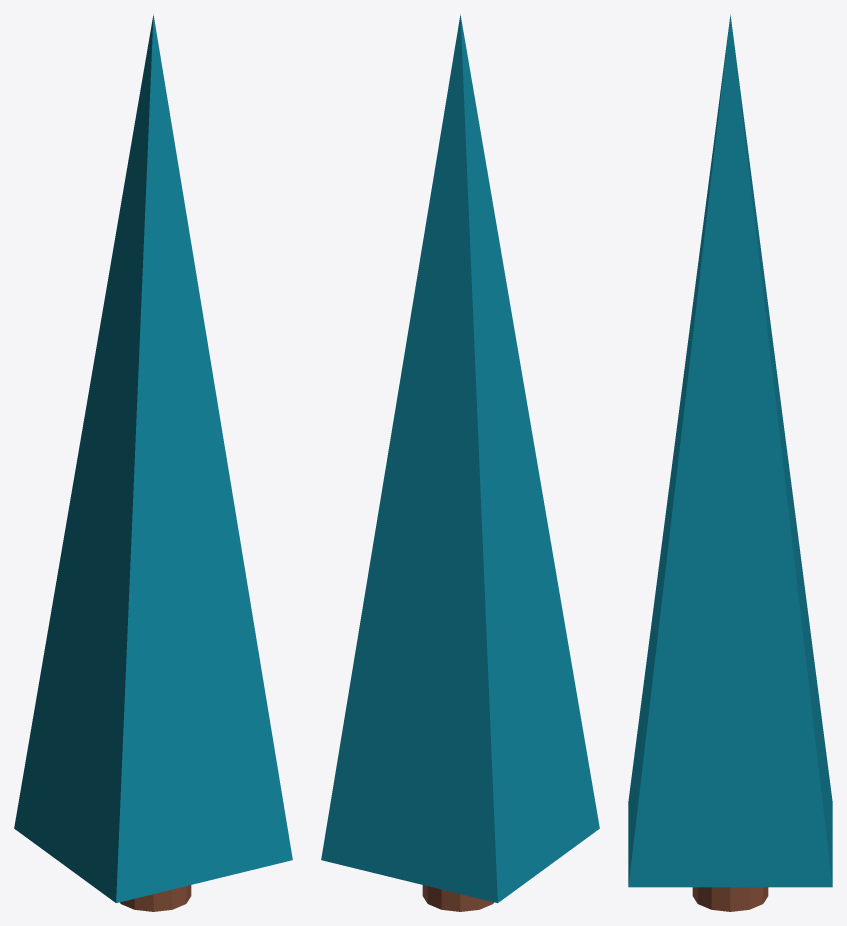
Rendered from Tree_19_summer_blue.fbx.
3 views of the same model, side by side, from view 1: azimuth 30°, elevation 25°; view 2: azimuth 150°, elevation 25°; view 3: azimuth 270°, elevation 25° (orthographic).
Parts seen in each view (by area): view 1: Tree_19_summer_blue; view 2: Tree_19_summer_blue; view 3: Tree_19_summer_blue.
Part boxes in pixels (x1=…): Tree_19_summer_blue: x1=14, y1=14, x2=292, y2=911; Tree_19_summer_blue: x1=321, y1=14, x2=599, y2=911; Tree_19_summer_blue: x1=628, y1=14, x2=832, y2=911.
Bounding box in the file's own units: 59.69 × 285 × 59.69.
